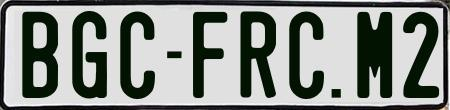2: (402, 10, 432, 96)
B: (20, 11, 59, 102)
C: (117, 9, 156, 99), (286, 11, 323, 101)
F: (191, 10, 231, 100)
G: (71, 10, 106, 99)
M: (355, 11, 392, 97)
R: (239, 10, 277, 100)
